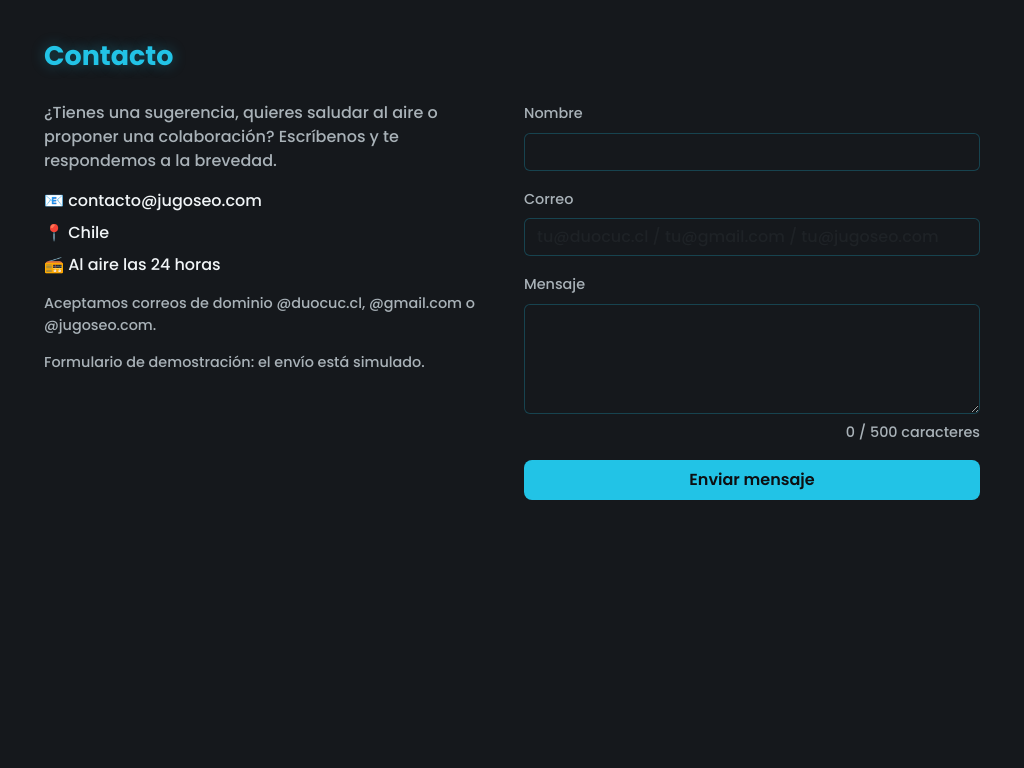
Test: Contacto › valida datos correctos, informa el envío simulado y limpia el formulario
Type "Ana Pérez" into the field labelled "Nombre" at {"x": 752, "y": 152}, box [524,133,980,171]
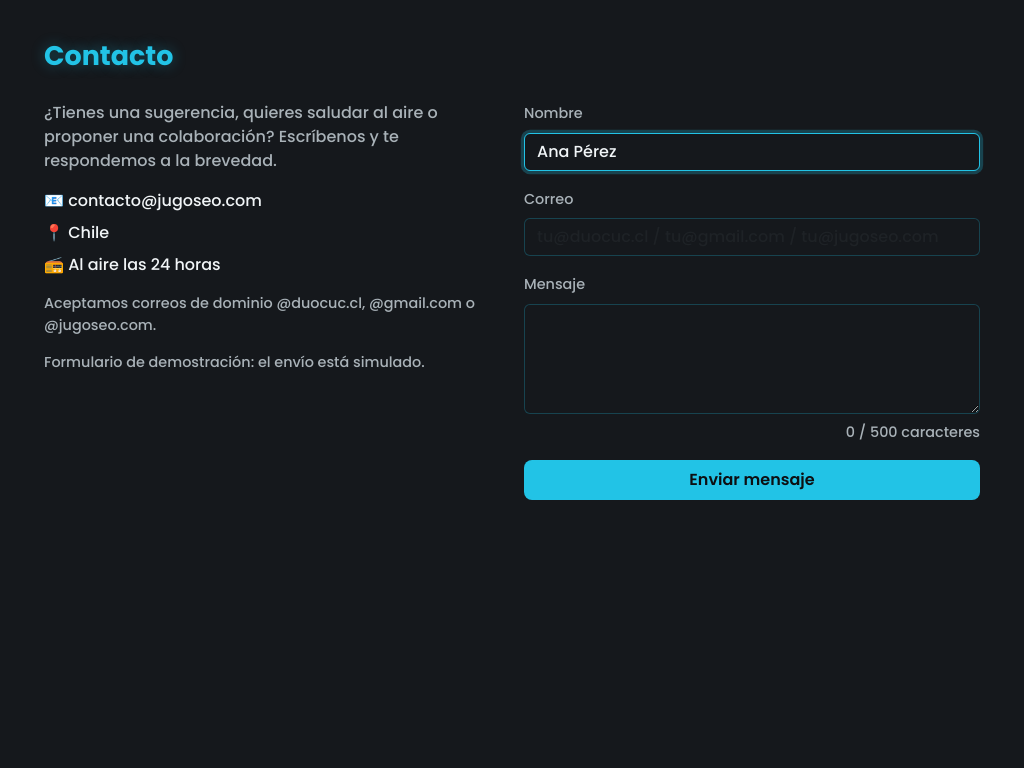
Type "ana@gmail.com" into the field labelled "Correo" at {"x": 752, "y": 237}, box [524,218,980,256]
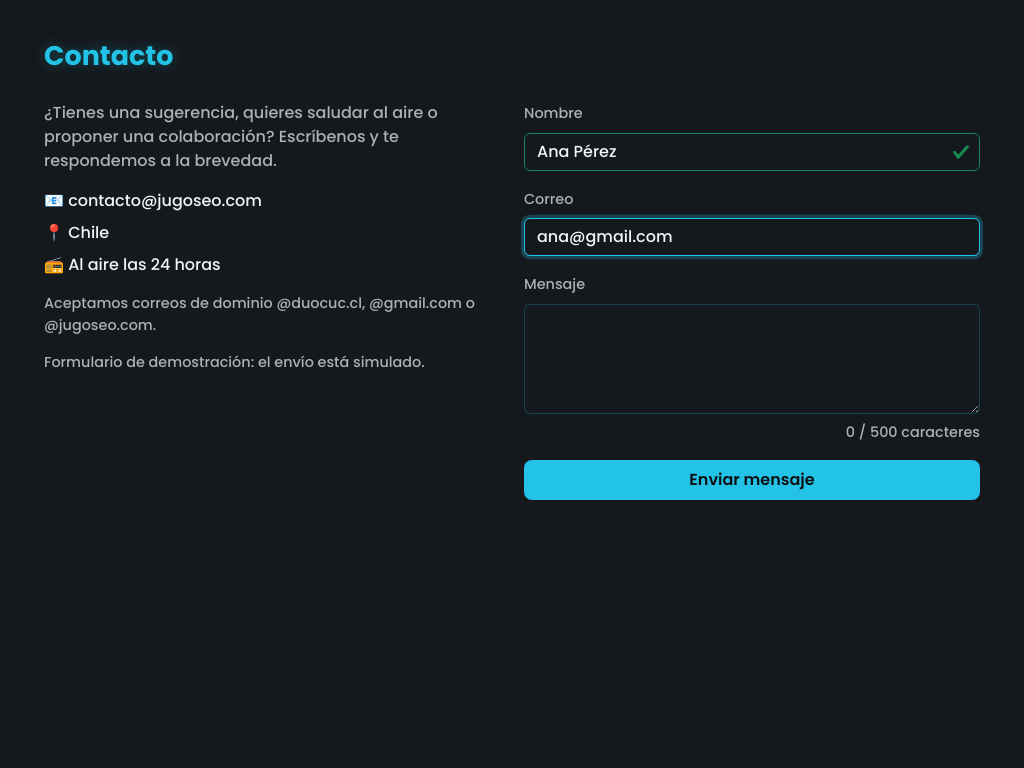
Type "Me gustaría proponer un nuevo programa." into the text box labelled "Mensaje" at {"x": 752, "y": 359}, box [524,304,980,414]
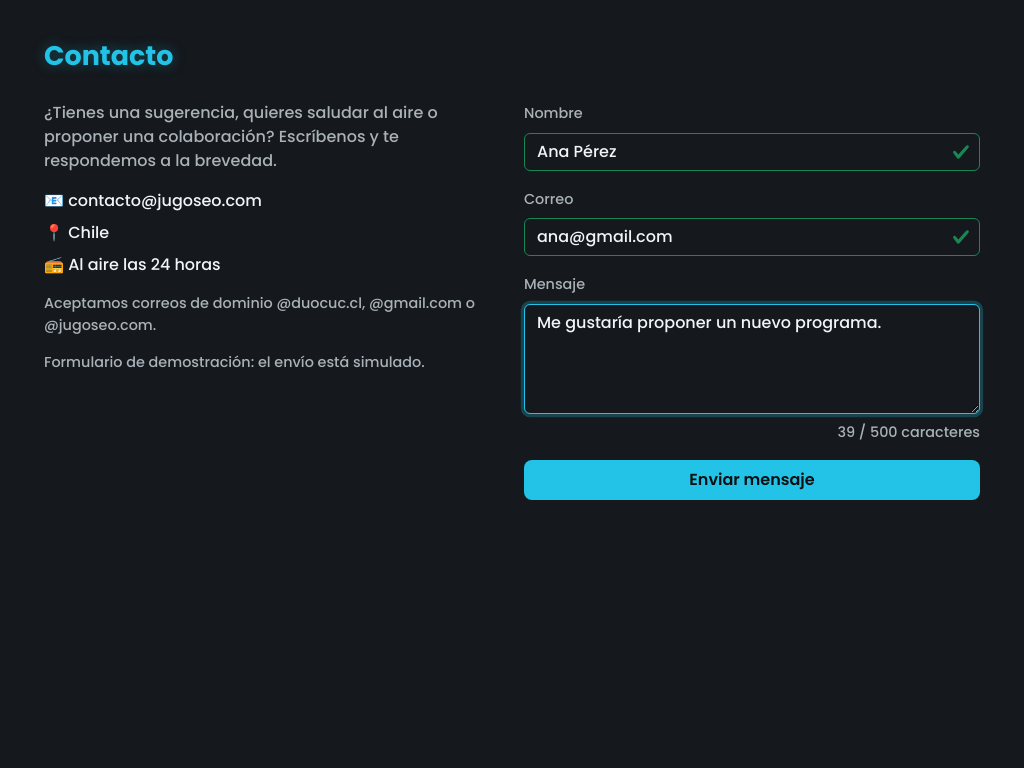
Click the button "Enviar mensaje" at {"x": 752, "y": 480}, box [524,460,980,500]
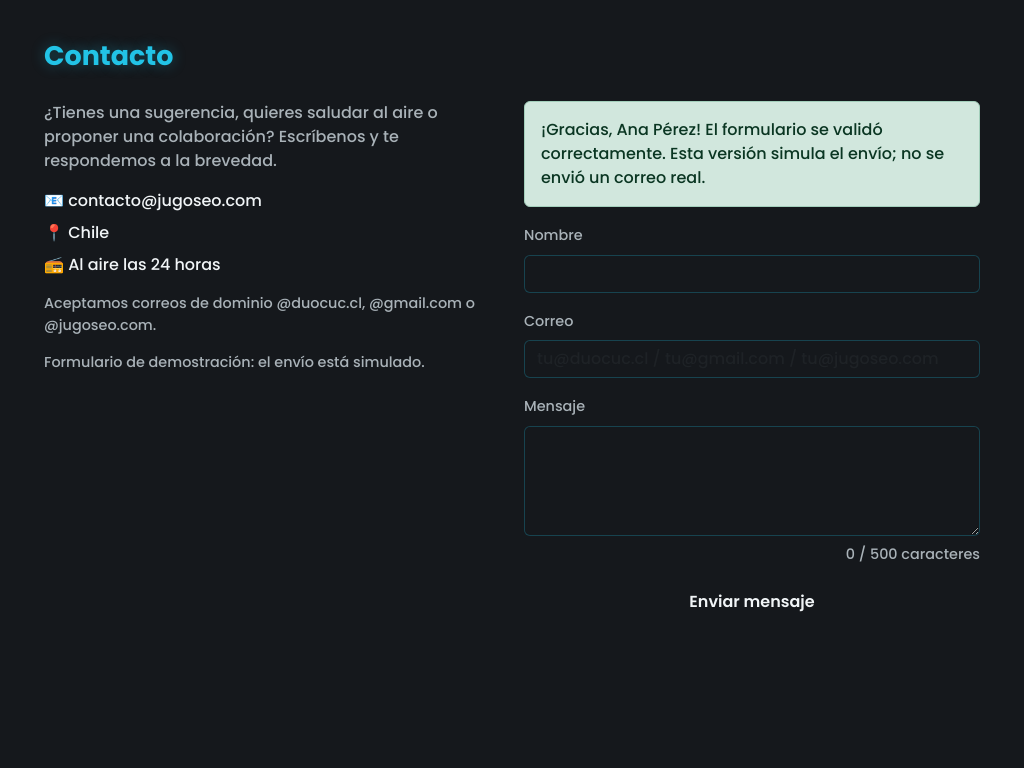
expect the message shows "¡Gracias, Ana Pérez!": met, box [541,118,944,189]
expect the message shows "Esta versión simula el envío; no se envió un correo real.": met, box [541,118,944,189]
expect the field labelled "Nombre" is empty: met, box [524,255,980,293]
